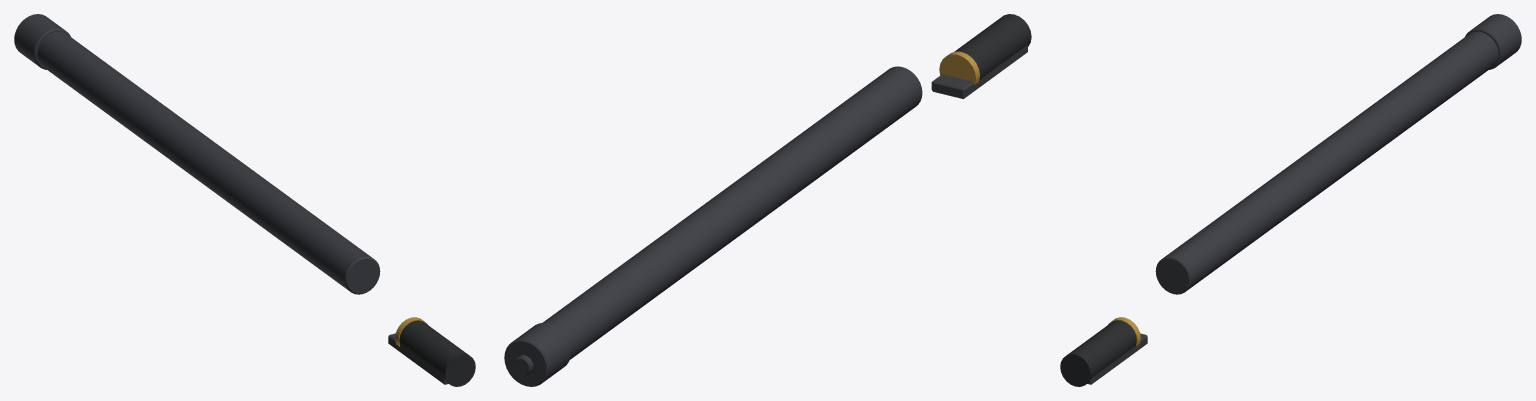
Rendered from mod_plowman_standard_tube.glb.
3 renders of one model, left to right at view 1: azimuth 30°, elevation 25°; view 2: azimuth 150°, elevation 25°; view 3: azimuth 330°, elevation 25°, orthographic. The views are drawn at different scales.
Parts seen in each view (by area): view 1: MagTube, MagTubeShell; view 2: MagTube, MagTubeShell; view 3: MagTube, MagTubeShell.
Part boxes in pixels (bbox=[...]): MagTube: bbox=[14, 14, 448, 384]; MagTubeShell: bbox=[395, 317, 475, 386]; MagTube: bbox=[504, 45, 1027, 386]; MagTubeShell: bbox=[939, 14, 1031, 85]; MagTube: bbox=[1087, 14, 1521, 384]; MagTubeShell: bbox=[1060, 317, 1140, 386].
Size of the model in its own units: 0.0254 by 0.0377 by 0.488.
